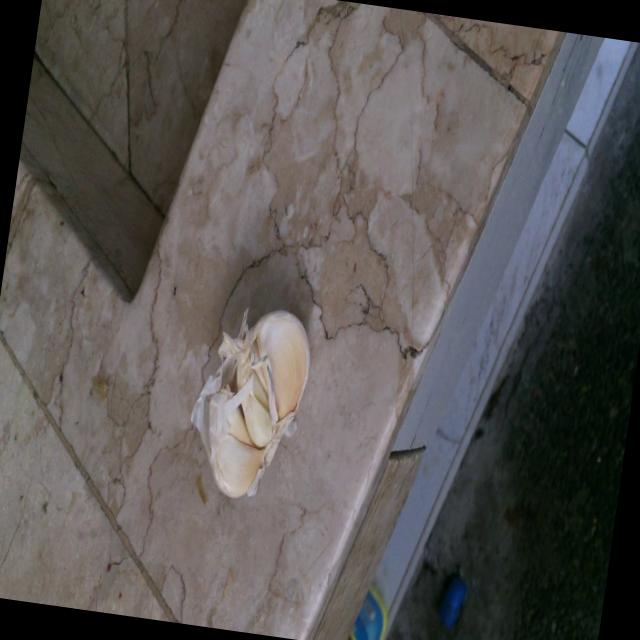bawang: (178, 288, 321, 511)
